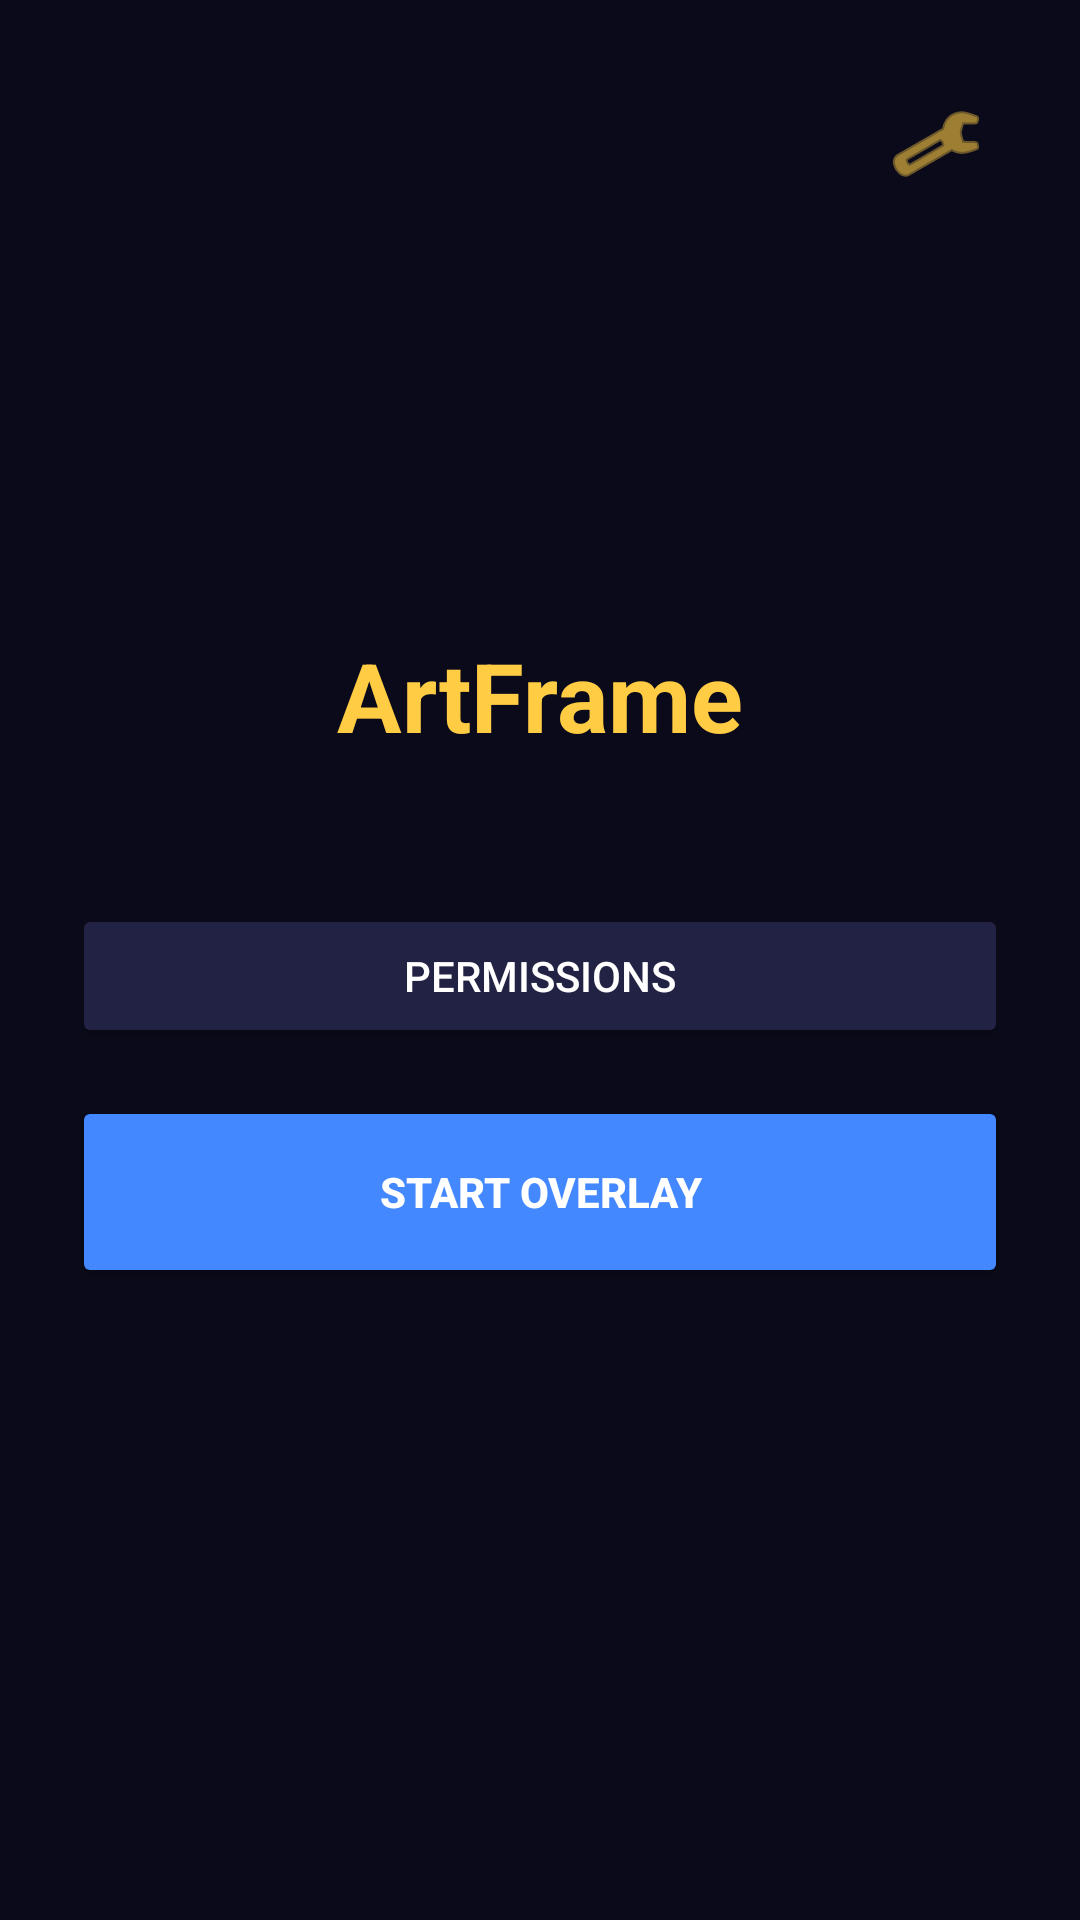

Icons on this 1080px x 1920px Android screen, each with the point to tap as point (x, y):
Settings: point (936, 144)
